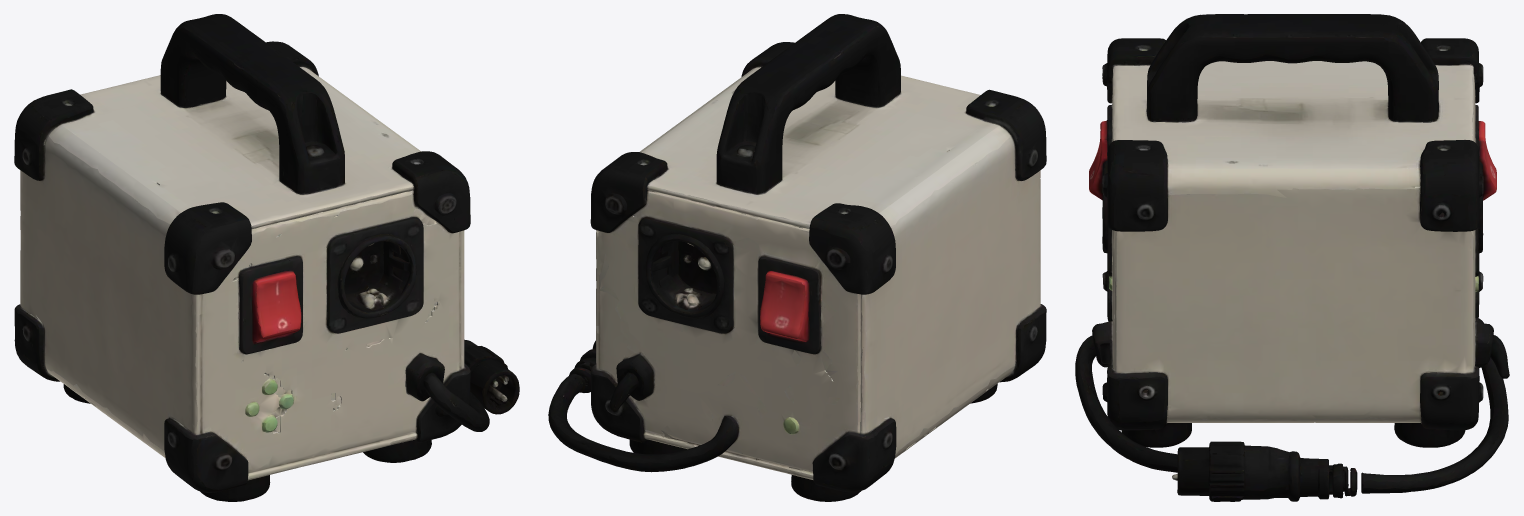
3 views of the same model, side by side, from view 1: azimuth 30°, elevation 25°; view 2: azimuth 150°, elevation 25°; view 3: azimuth 270°, elevation 25° (orthographic).
Visible parts, largest first — view 1: geometry_0; view 2: geometry_0; view 3: geometry_0.
Boxes of the visible parts, box(x1,y1,x2,y2) form: geometry_0: box(14, 14, 519, 501); geometry_0: box(548, 14, 1046, 501); geometry_0: box(1075, 14, 1509, 501).
Bounding box in the file's own units: 0.21 × 0.2023 × 0.2095.
1 material, 1 textured.
